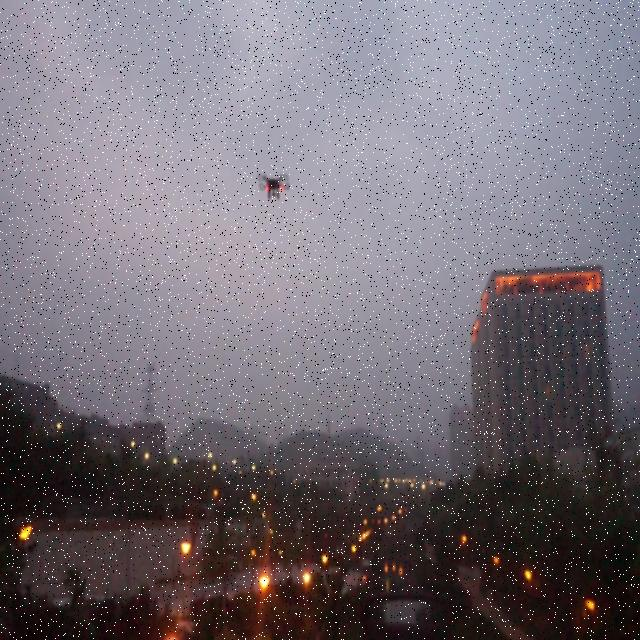UAV: (257, 172, 290, 202)
